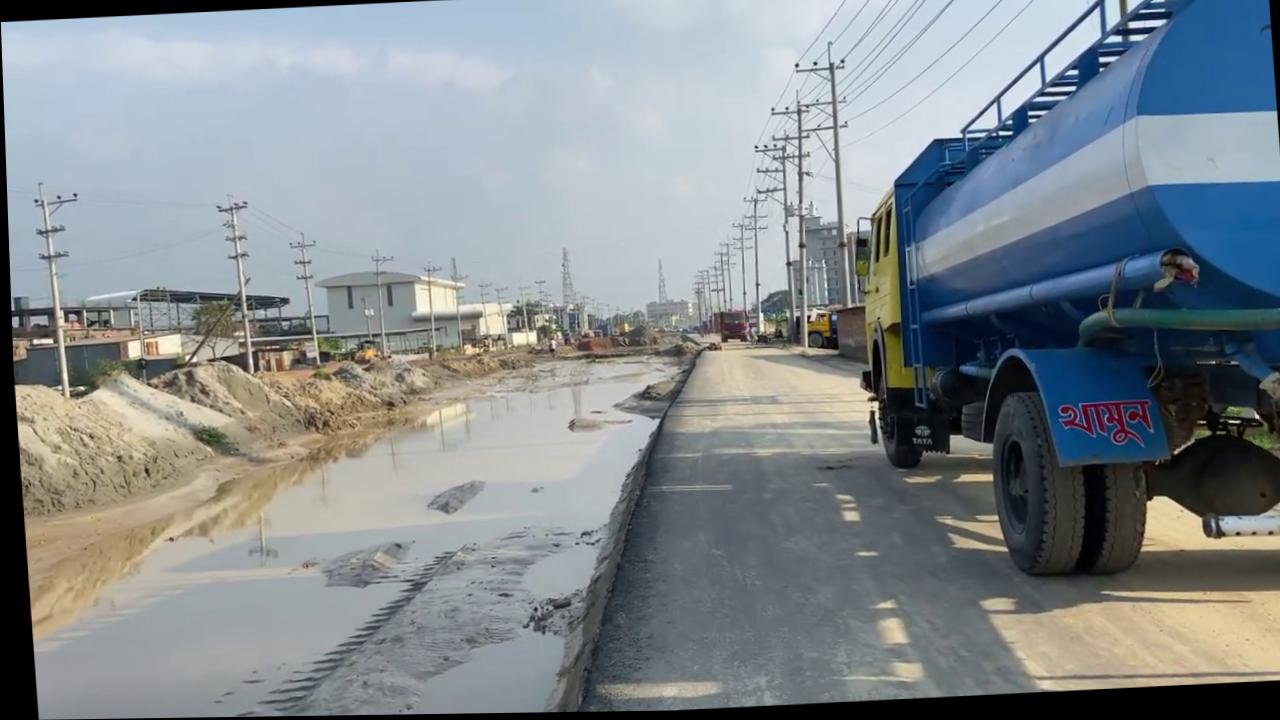Animal: (829, 0, 1280, 589)
Curb: (519, 342, 727, 714)
Pole: (792, 42, 859, 311), (28, 179, 89, 398), (213, 193, 257, 375), (285, 232, 321, 366), (367, 249, 398, 358), (420, 264, 445, 355)
Sidewalk: (11, 345, 714, 720)
Traffic-sign: (176, 298, 238, 366)
Tree: (801, 309, 837, 352), (714, 311, 748, 345), (347, 339, 378, 364)
